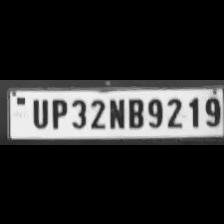1: (183, 94, 200, 128)
2: (164, 94, 184, 128), (87, 96, 105, 128)
3: (68, 96, 86, 128)
9: (202, 94, 222, 126), (145, 94, 163, 128)
B: (126, 96, 144, 128)
N: (105, 96, 124, 128)
P: (48, 95, 68, 127)
U: (28, 96, 48, 128)
